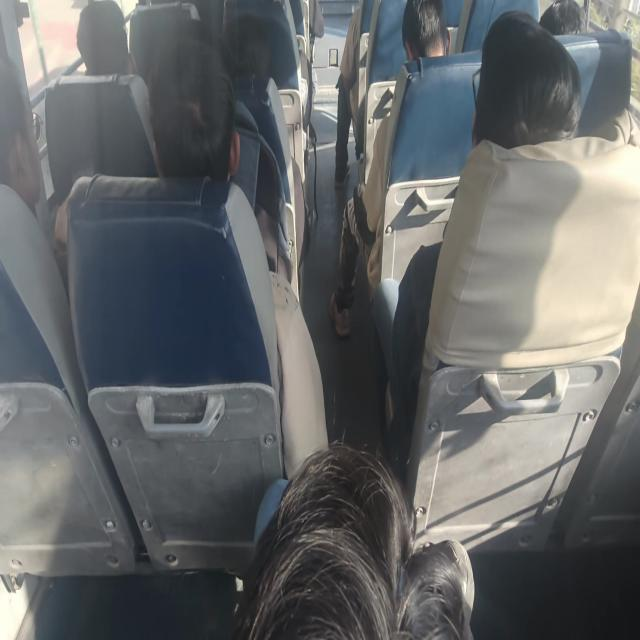person: (372, 8, 583, 468), (147, 26, 329, 478), (232, 440, 475, 638), (328, 0, 451, 338), (0, 54, 69, 281), (147, 29, 240, 182), (334, 5, 362, 188), (76, 0, 137, 76), (401, 0, 451, 61), (539, 0, 586, 36)
